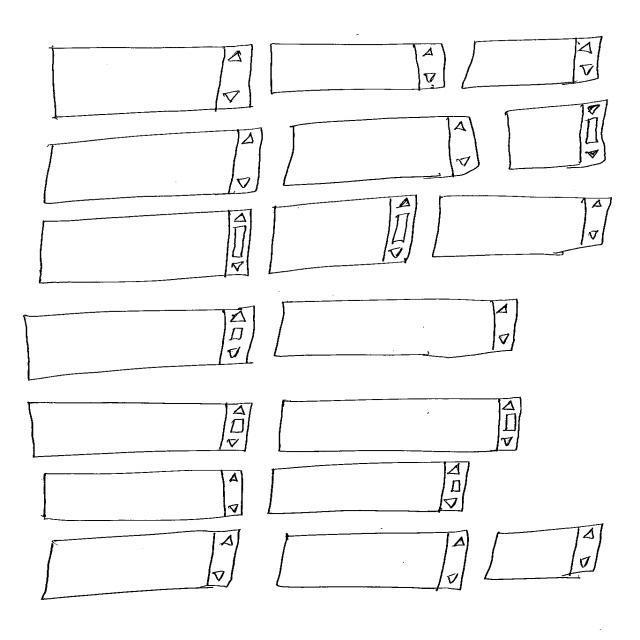textarea: (23, 307, 259, 383), (42, 127, 265, 206), (36, 208, 254, 286), (272, 297, 521, 360), (52, 45, 255, 120), (39, 528, 243, 601), (278, 396, 525, 455), (282, 116, 481, 189), (25, 402, 256, 459), (267, 195, 420, 276), (276, 530, 470, 593), (430, 194, 614, 259), (267, 460, 473, 515), (42, 469, 245, 524), (270, 42, 449, 94), (459, 34, 606, 90), (503, 98, 611, 171), (484, 522, 606, 581)
